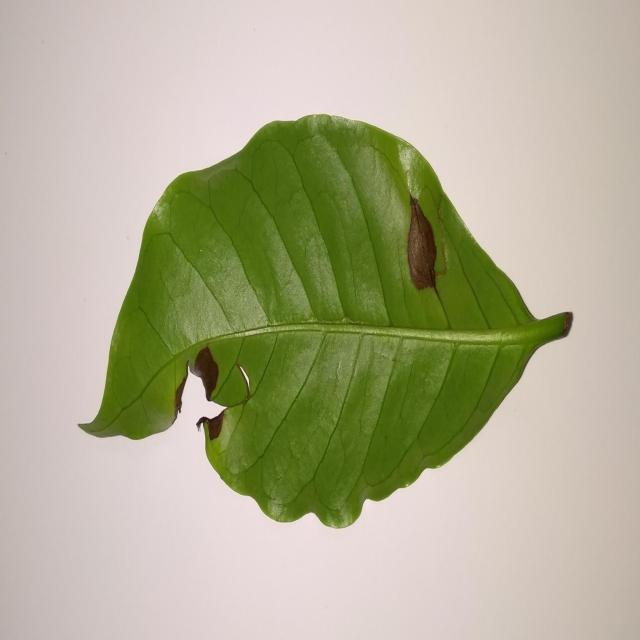Enfermedad-Antracnosis: (78, 115, 574, 532)
